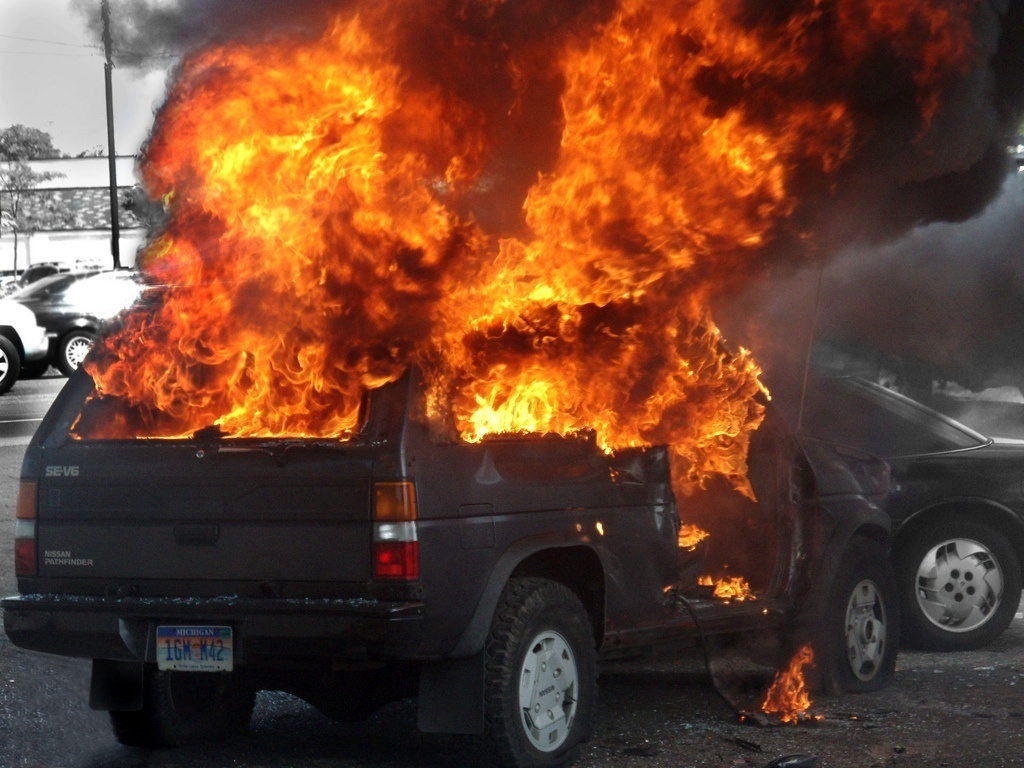fire: (126, 7, 805, 475), (762, 642, 823, 725)
